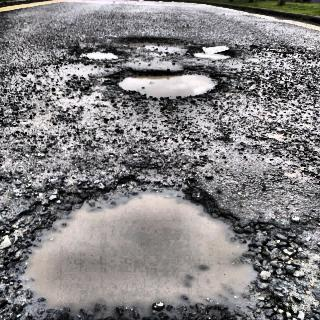pothole: (0, 175, 279, 320), (114, 66, 218, 100), (76, 48, 122, 61), (193, 47, 234, 61)
